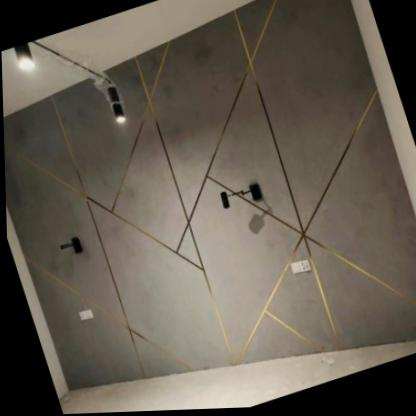Wall Panel: (3, 0, 416, 392)
